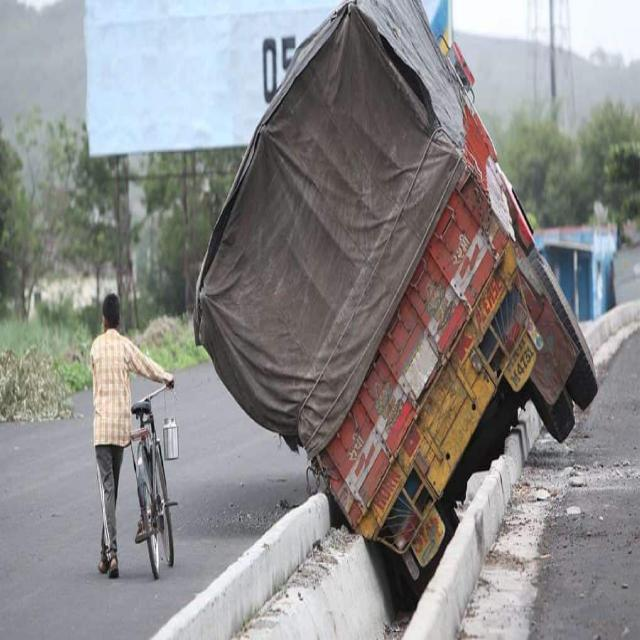accident: (194, 0, 598, 637)
bicycle: (130, 385, 176, 577)
